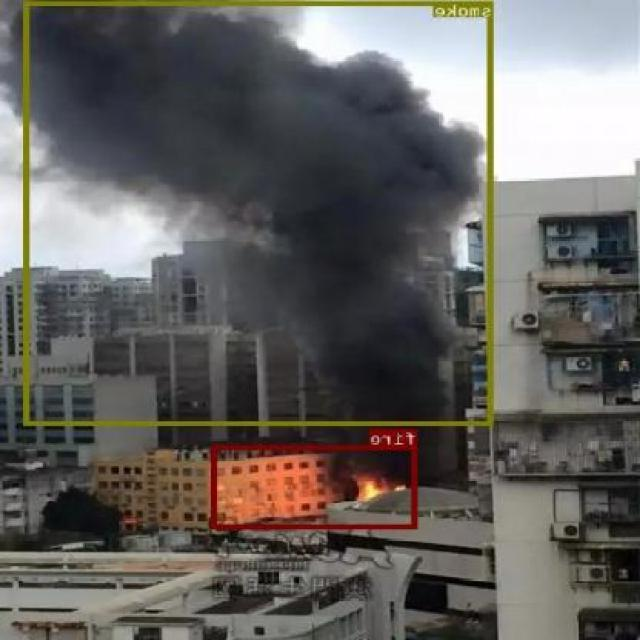fire: (213, 444, 419, 528)
smoke: (24, 0, 493, 425)
